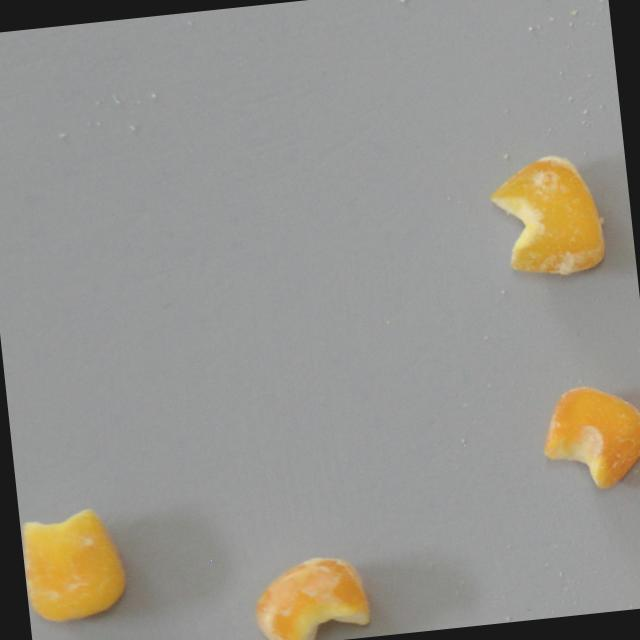pelicula: (488, 145, 611, 280), (19, 503, 130, 625), (536, 381, 640, 494), (252, 552, 374, 640)
